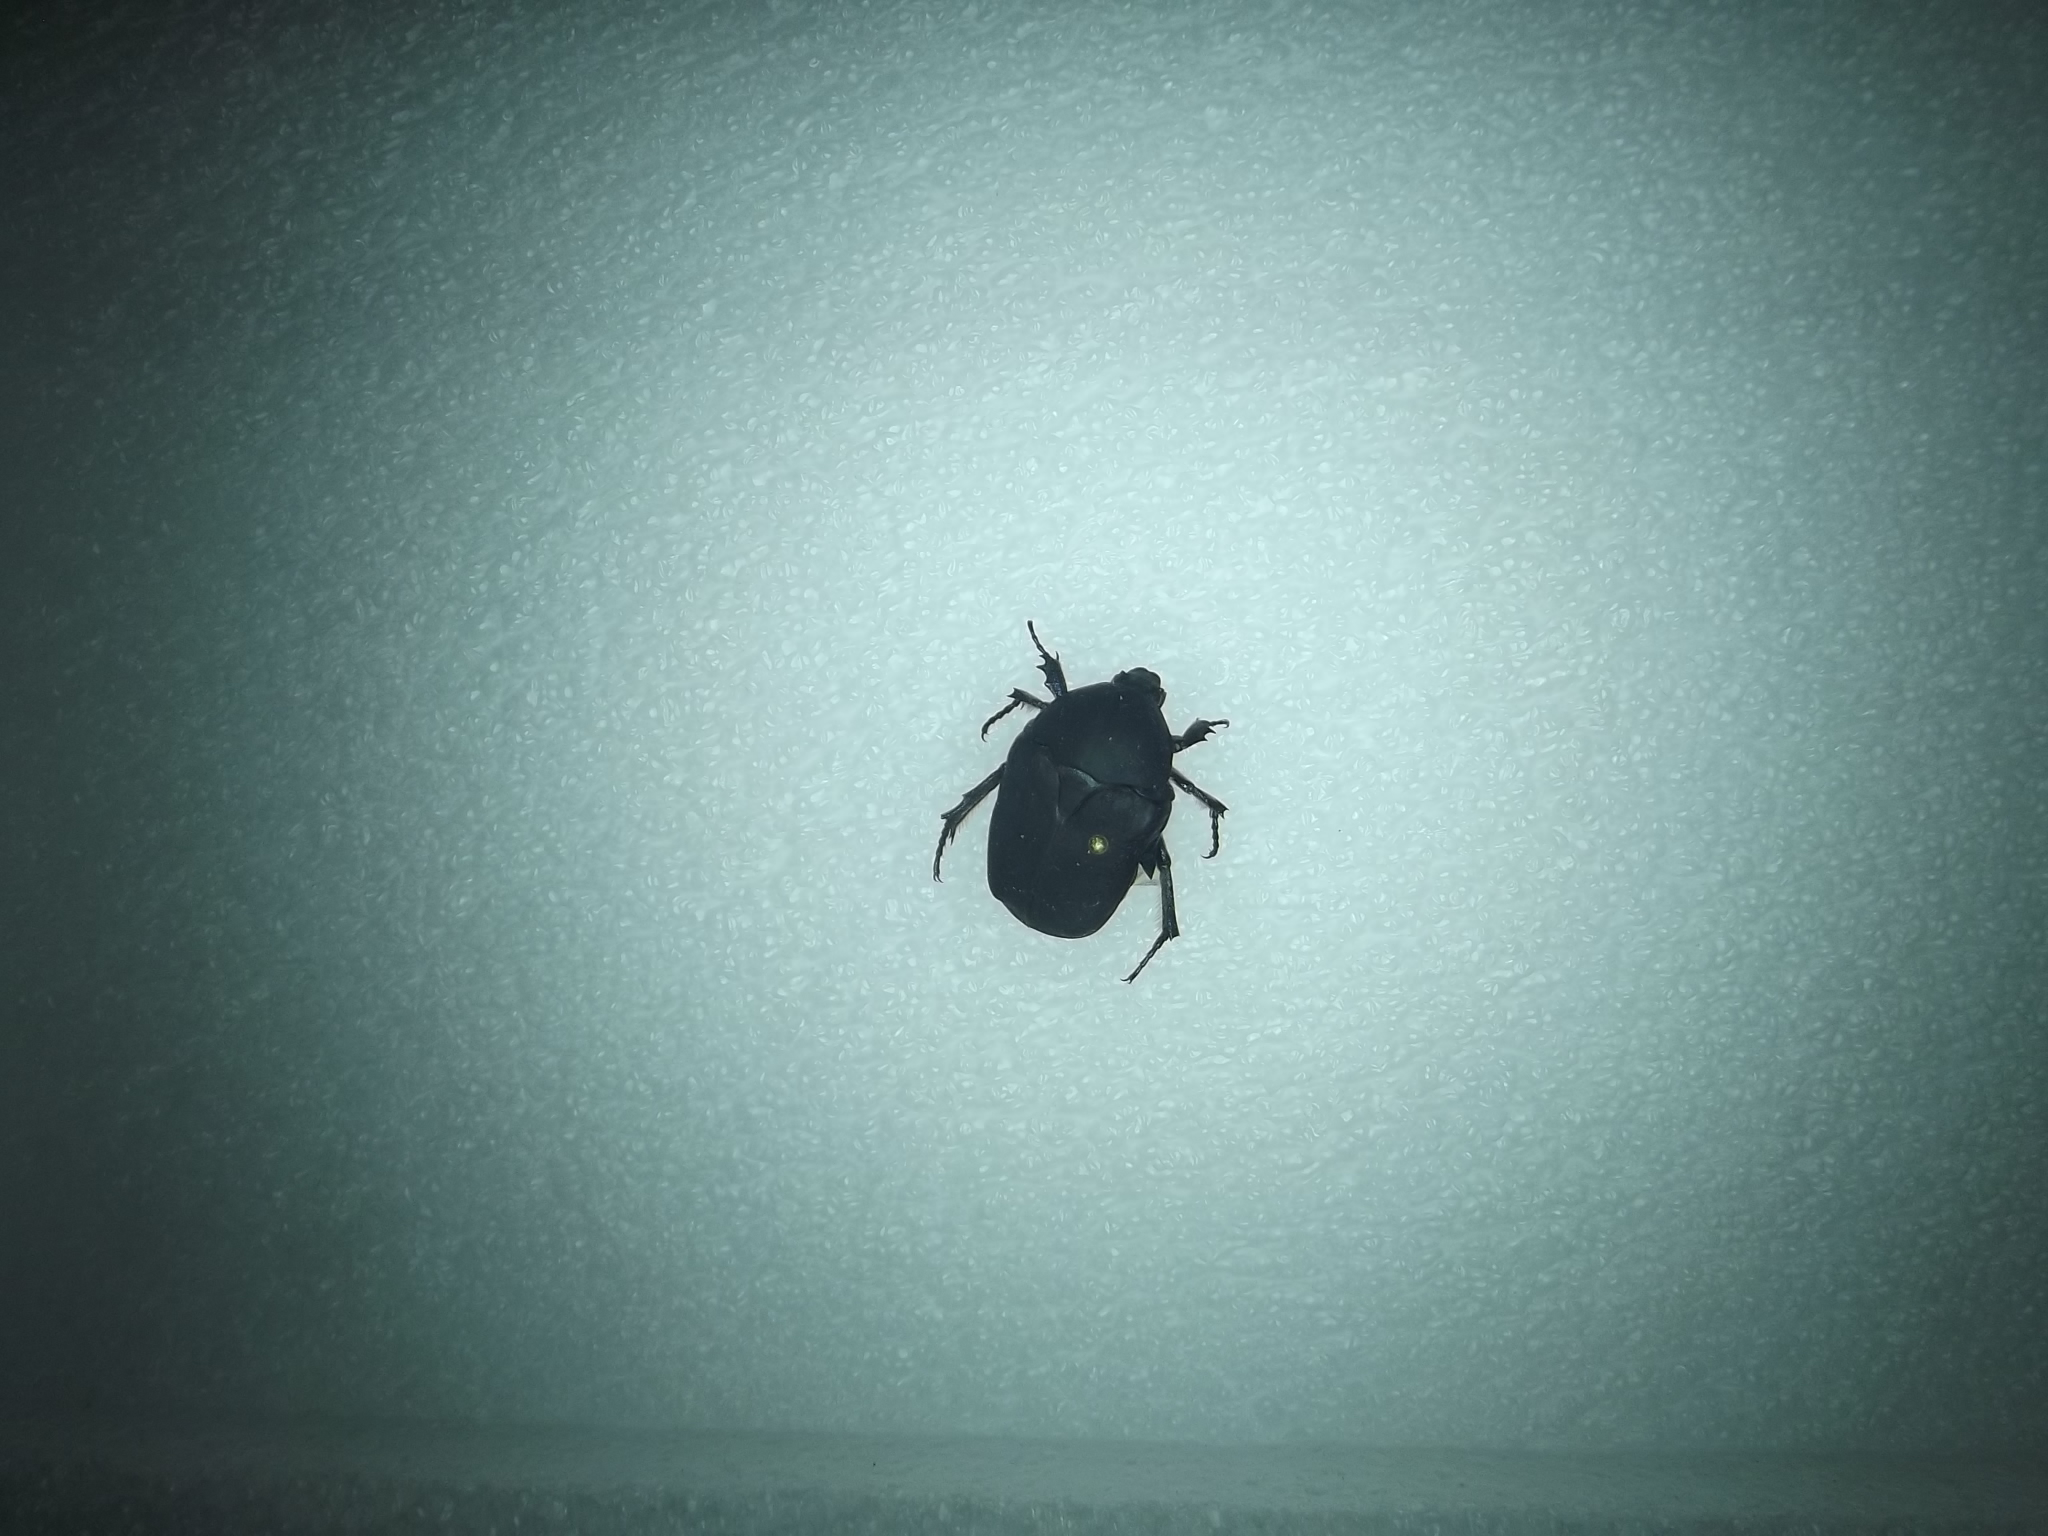Protaetia_ungarica_americana: (906, 611, 1255, 986)
